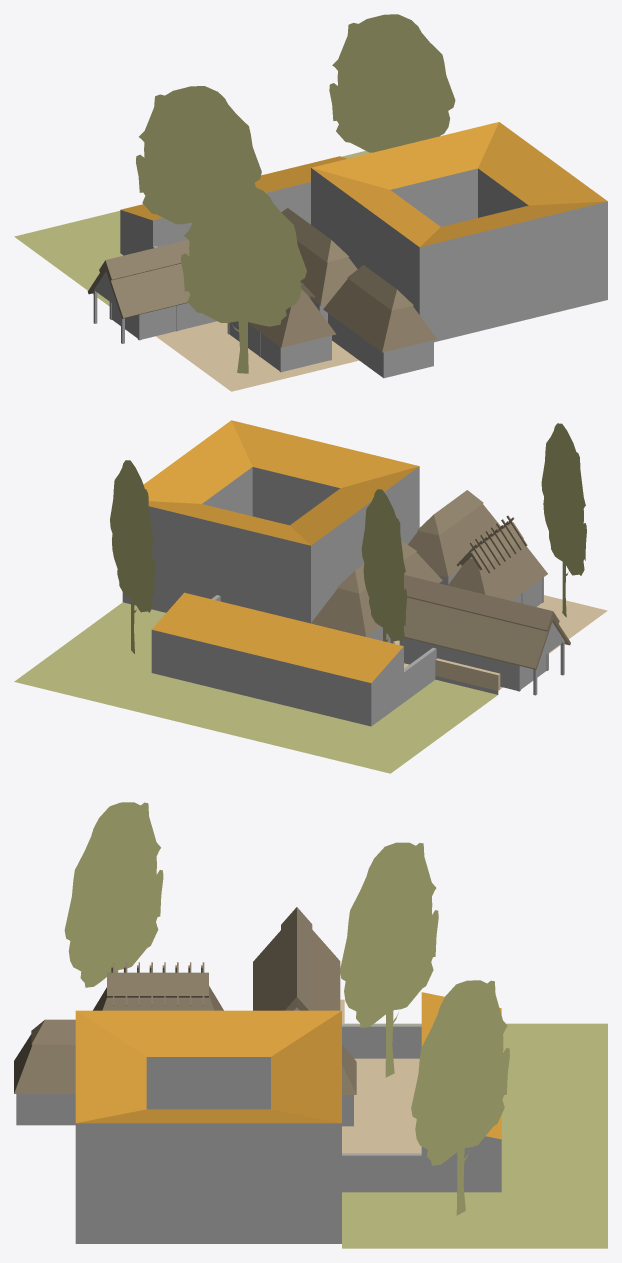
3 renders of one model, top to bottom at view 1: azimuth 30°, elevation 25°; view 2: azimuth 150°, elevation 25°; view 3: azimuth 270°, elevation 25°, orthographic. The views are drawn at different scales.
Visible parts, largest first — view 1: ww21; view 2: ww21; view 3: ww21.
Boxes of the visible parts, x1=… form: ww21: x1=14, y1=14, x2=607, y2=391; ww21: x1=14, y1=420, x2=607, y2=773; ww21: x1=14, y1=802, x2=607, y2=1248.
Size of the model in its own units: 32.84 by 14.71 by 33.48.
